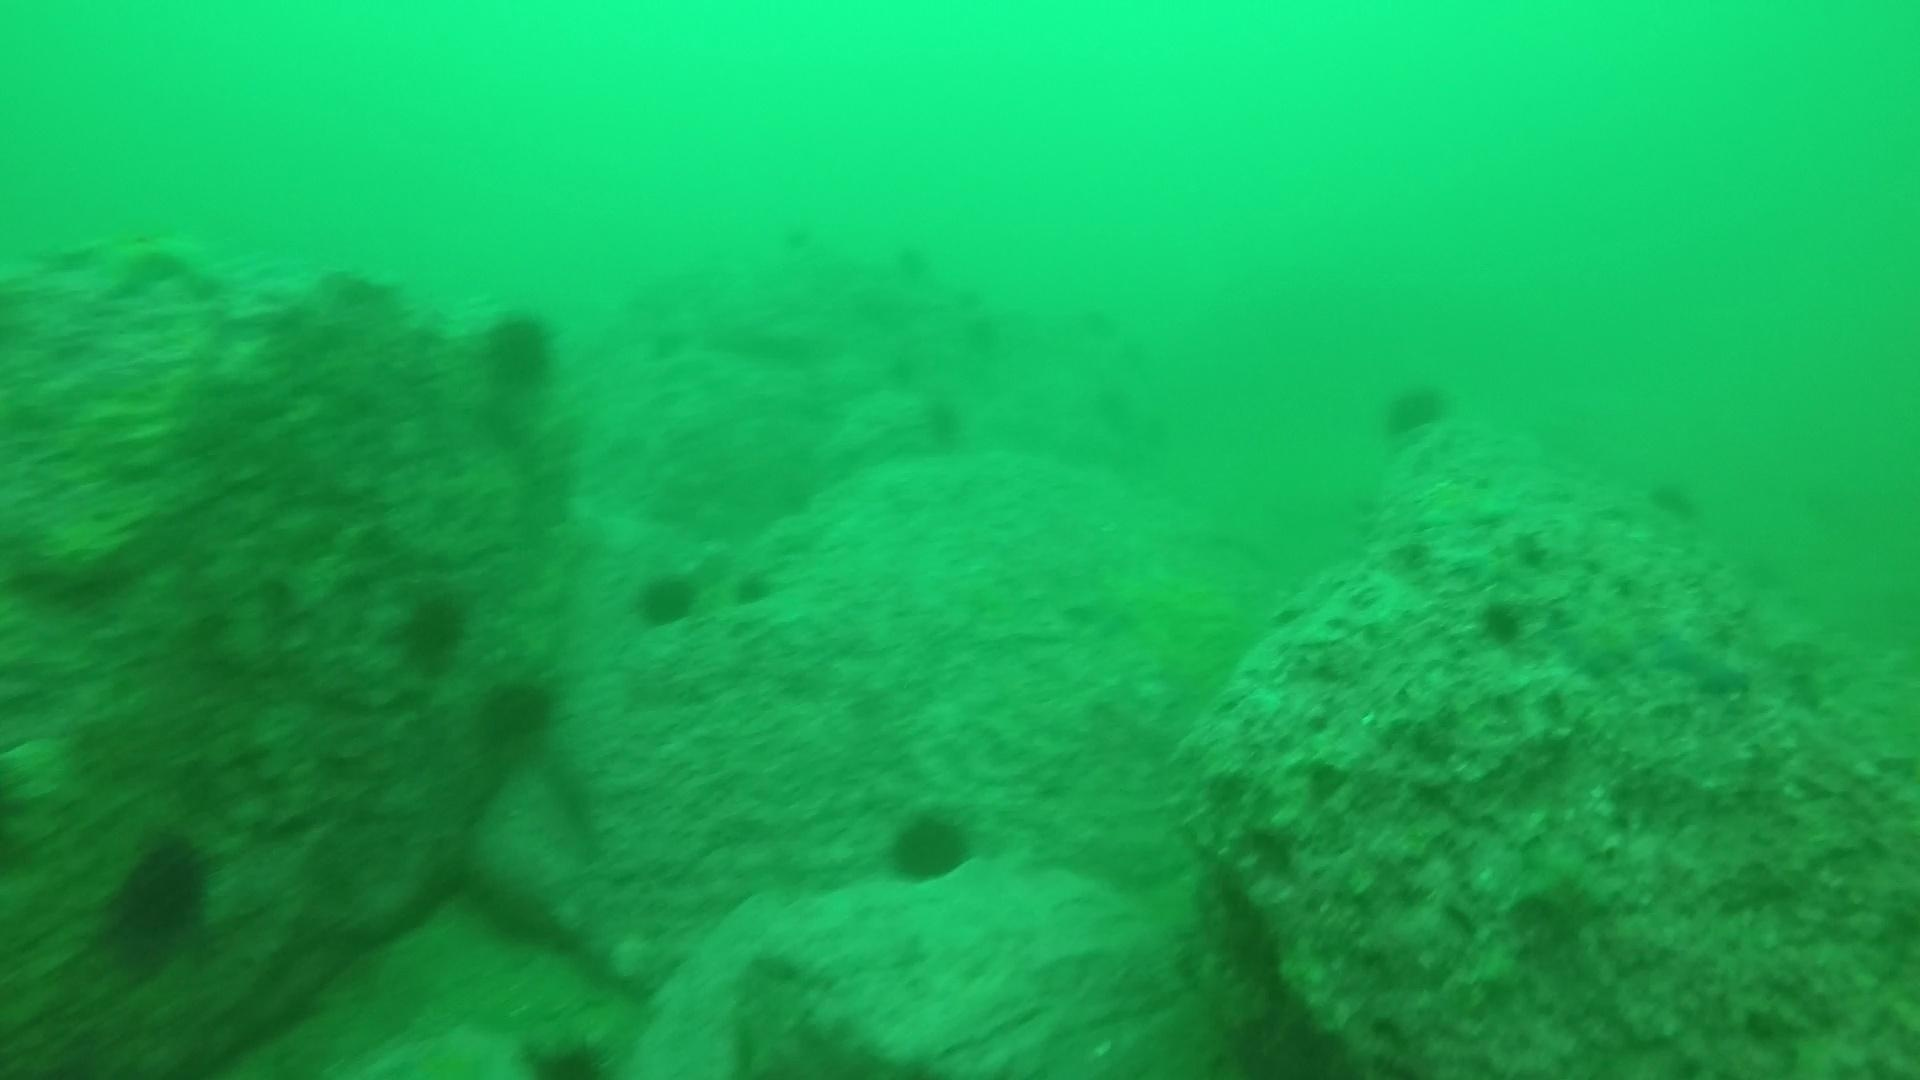echinus: (102, 829, 218, 952), (881, 802, 977, 887), (475, 305, 563, 394), (388, 582, 476, 671), (469, 669, 563, 753), (629, 564, 705, 632), (1377, 375, 1453, 440), (521, 1029, 615, 1077), (914, 392, 972, 455), (893, 244, 936, 287), (735, 568, 781, 609), (965, 319, 1009, 361)
starfish: (47, 223, 222, 305), (355, 1018, 526, 1077), (1639, 618, 1755, 696), (1549, 607, 1650, 680)
